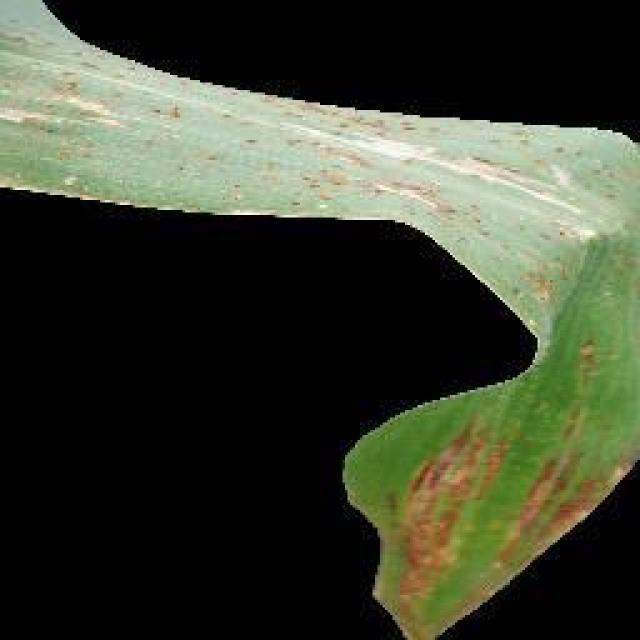Corn Common Rust: (418, 330, 568, 640)
